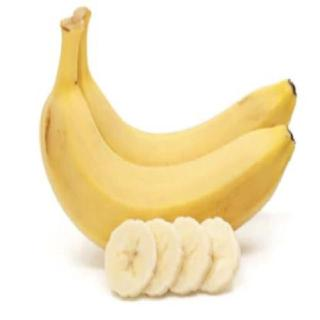banana: (38, 86, 298, 260), (64, 75, 300, 207)
